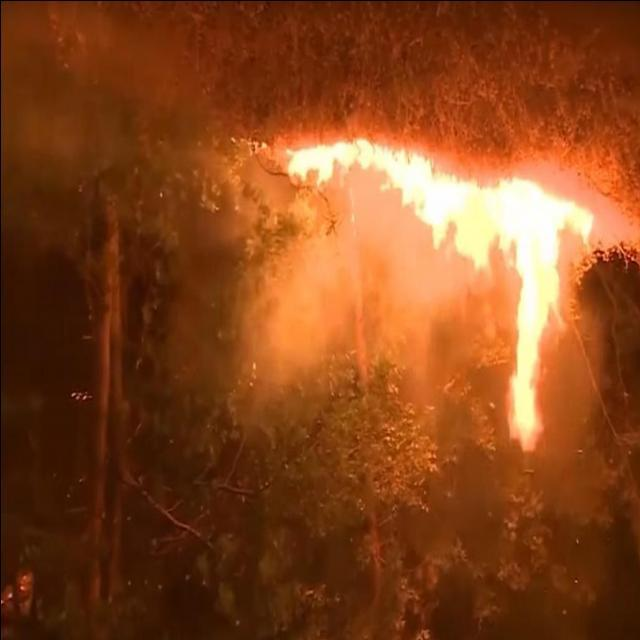Fire: (284, 119, 598, 458)
